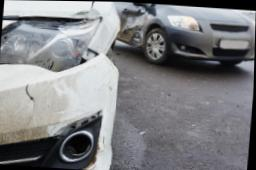Bumper: (0, 55, 134, 170)
Fender: (86, 1, 130, 58)
Light: (0, 15, 105, 75)
